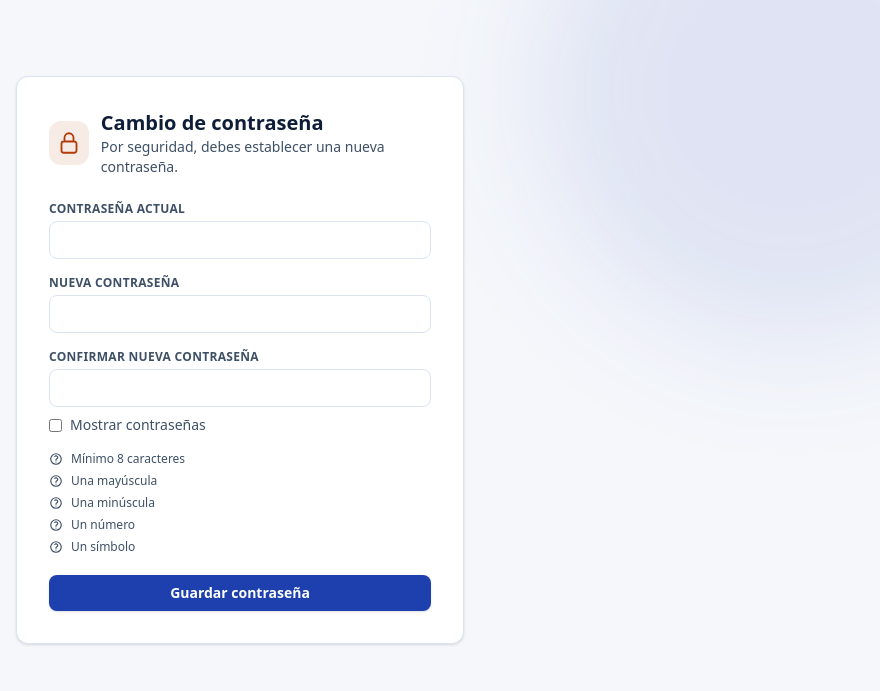
Test case: cambiar-password — validaciones del formulario › campos vacíos muestran el error de obligatorios
Click the button "Guardar contraseña" at (240, 593), box [49,575,431,611]
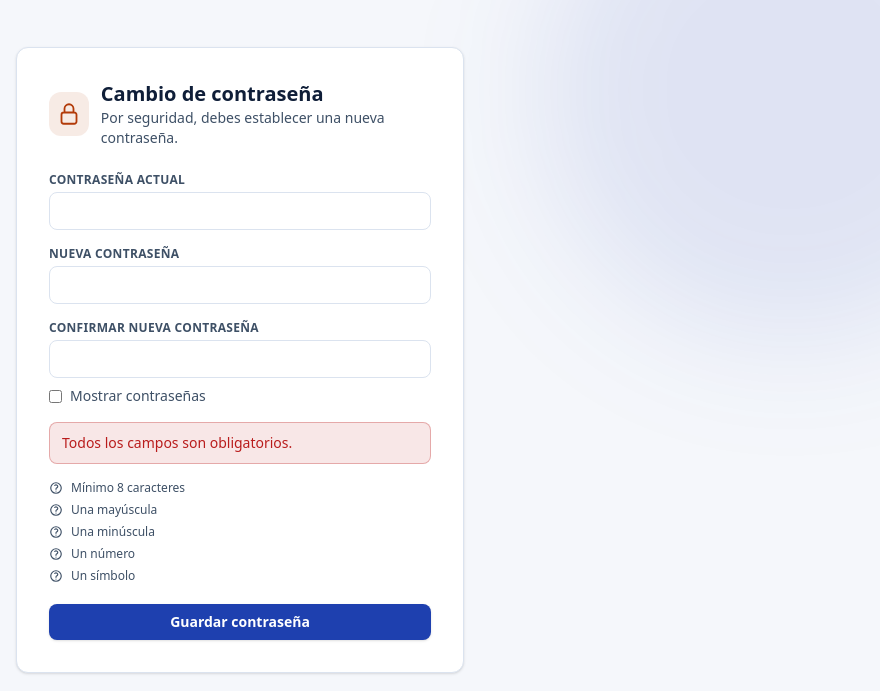
Now the message reads "Todos los campos son obligatorios.", box [62,433,292,452]
